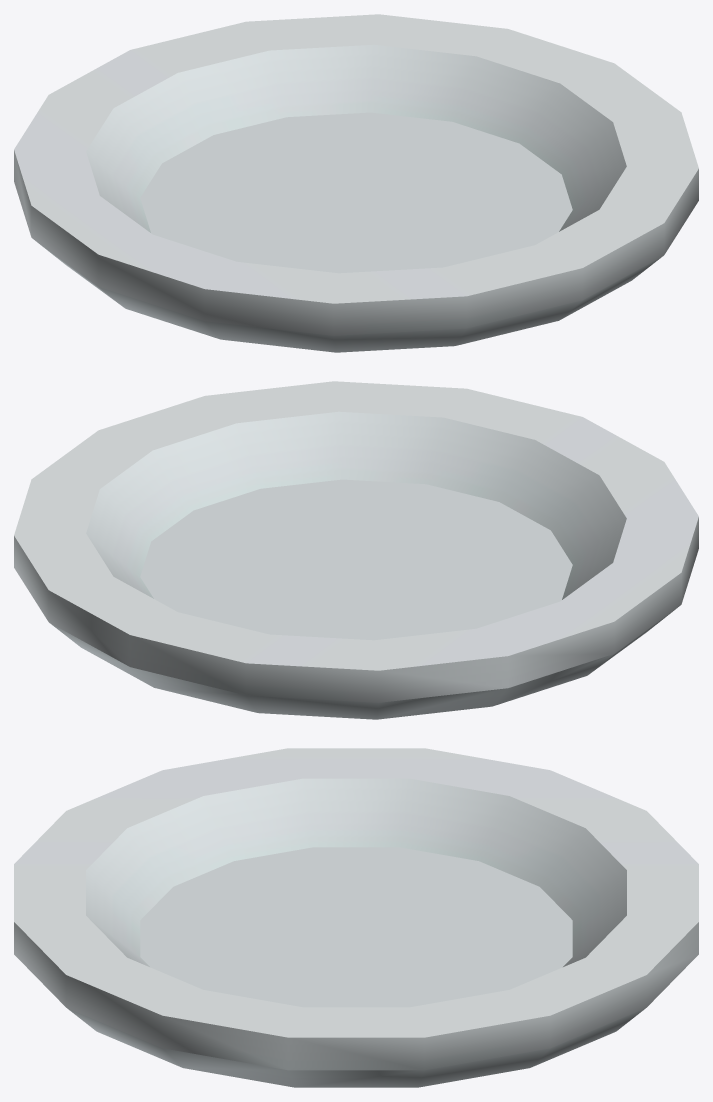
The model's file is kaykit-restaurant-bits-plate.glb.
3 views of the same model, one above another, from view 1: azimuth 30°, elevation 25°; view 2: azimuth 150°, elevation 25°; view 3: azimuth 270°, elevation 25° (orthographic).
Parts seen in each view (by area): view 1: plate; view 2: plate; view 3: plate.
Part boxes in pixels (x1,y1,x2,y2): plate: [14, 14, 698, 352]; plate: [14, 381, 698, 719]; plate: [14, 748, 698, 1087].
Bounding box in the file's own units: 0.95 × 0.1 × 0.95.
1 material, 1 textured.
